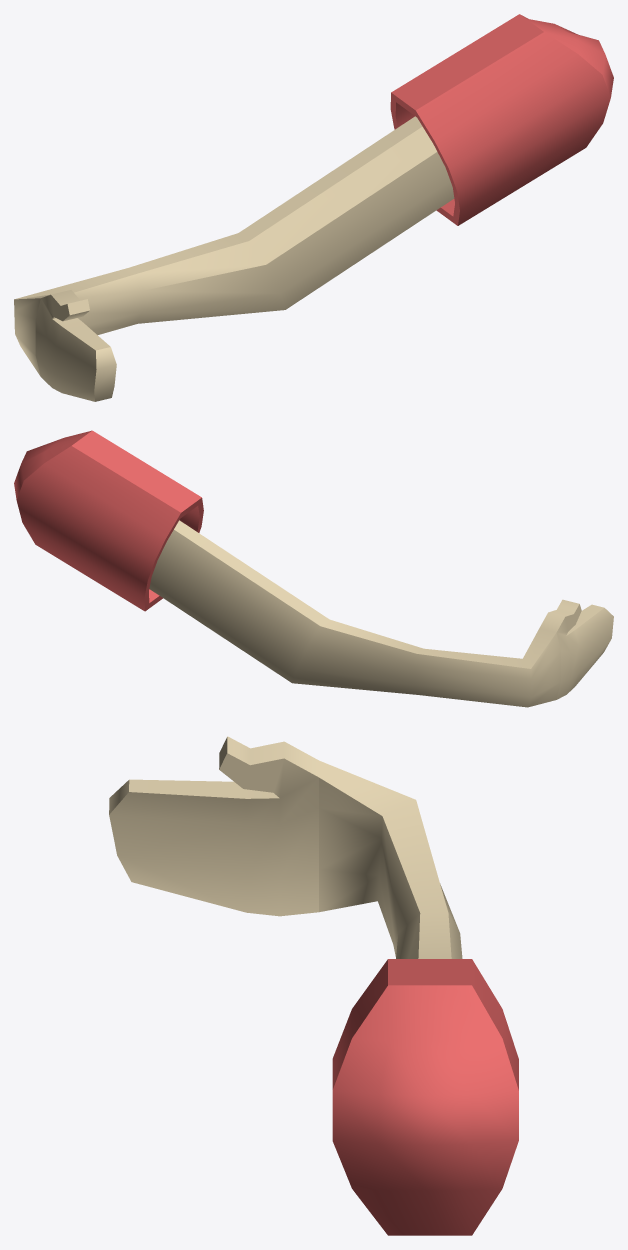
Rendered from arm.fbx.
3 views of the same model, one above another, from view 1: azimuth 30°, elevation 25°; view 2: azimuth 150°, elevation 25°; view 3: azimuth 270°, elevation 25° (orthographic). The views are drawn at different scales.
Visible parts, largest first — view 1: Mesh; view 2: Mesh; view 3: Mesh.
Part boxes in pixels (left/top/right/bottom): Mesh: left=14, top=14, right=613, bottom=401; Mesh: left=14, top=430, right=613, bottom=707; Mesh: left=109, top=736, right=518, bottom=1235.
Bounding box in the file's own units: 15.22 × 5.29 × 5.24.
